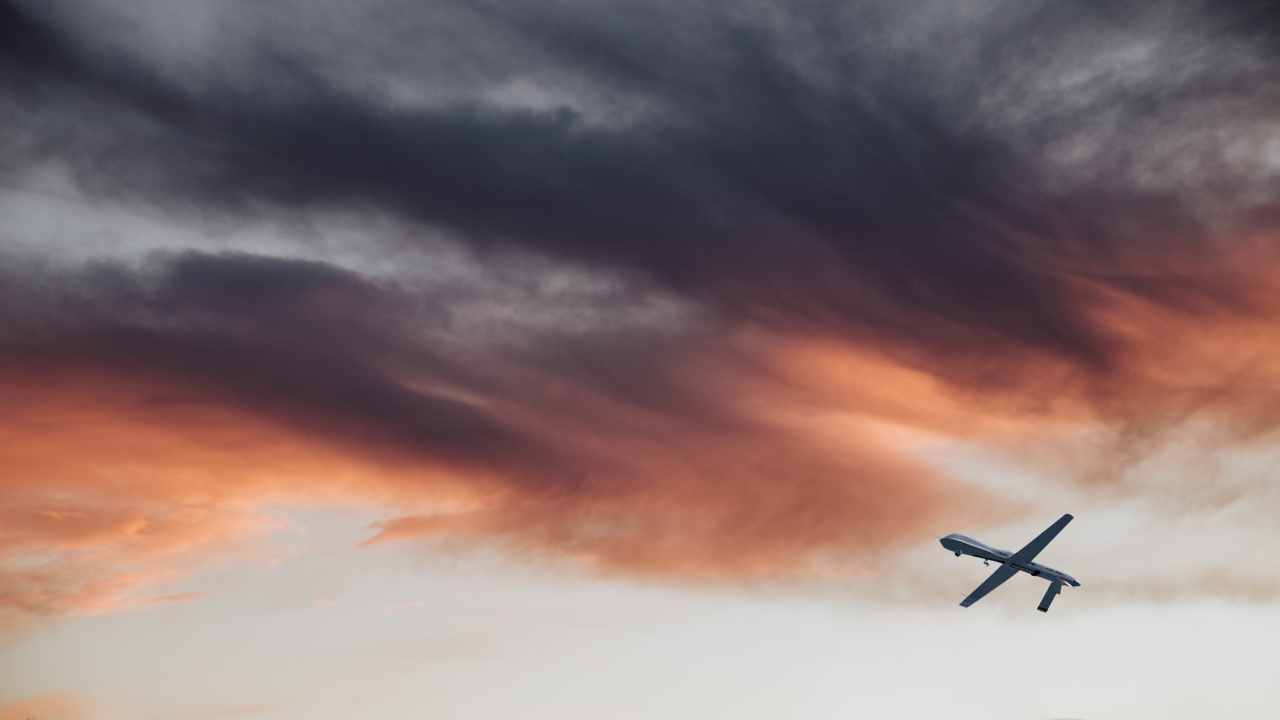military drone: (939, 513, 1081, 613)
